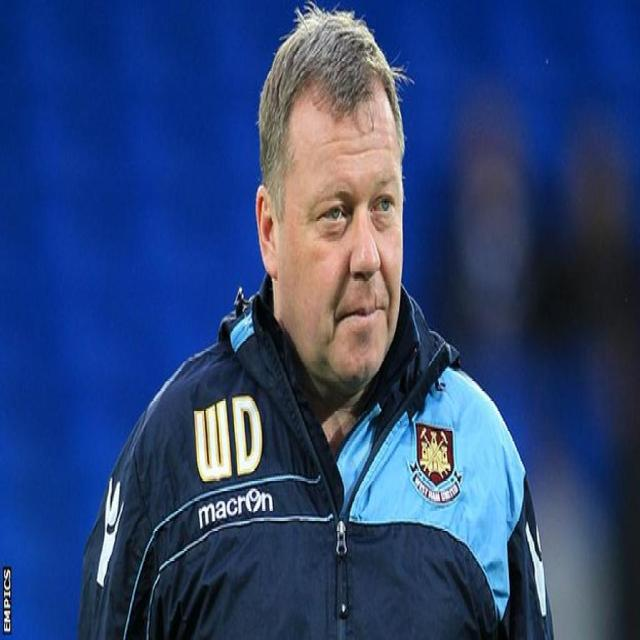Face: (263, 53, 413, 398)
